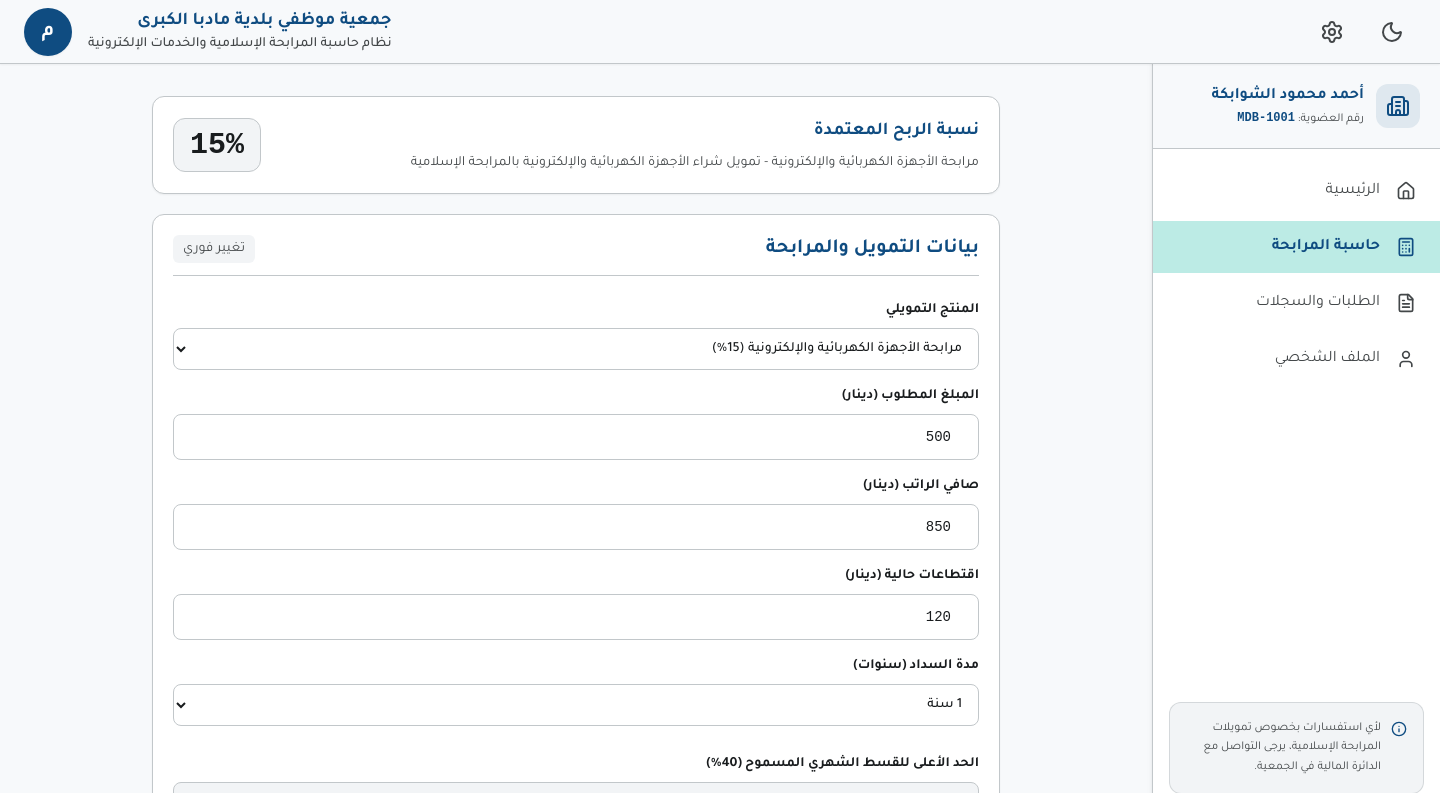
Test case: App with Convex queries and mutations › updates the profile from the profile tab
The width and height of the screenshot is (1440, 793).
Click the button "الملف الشخصي" at (1296, 359), box [1153, 333, 1439, 385]
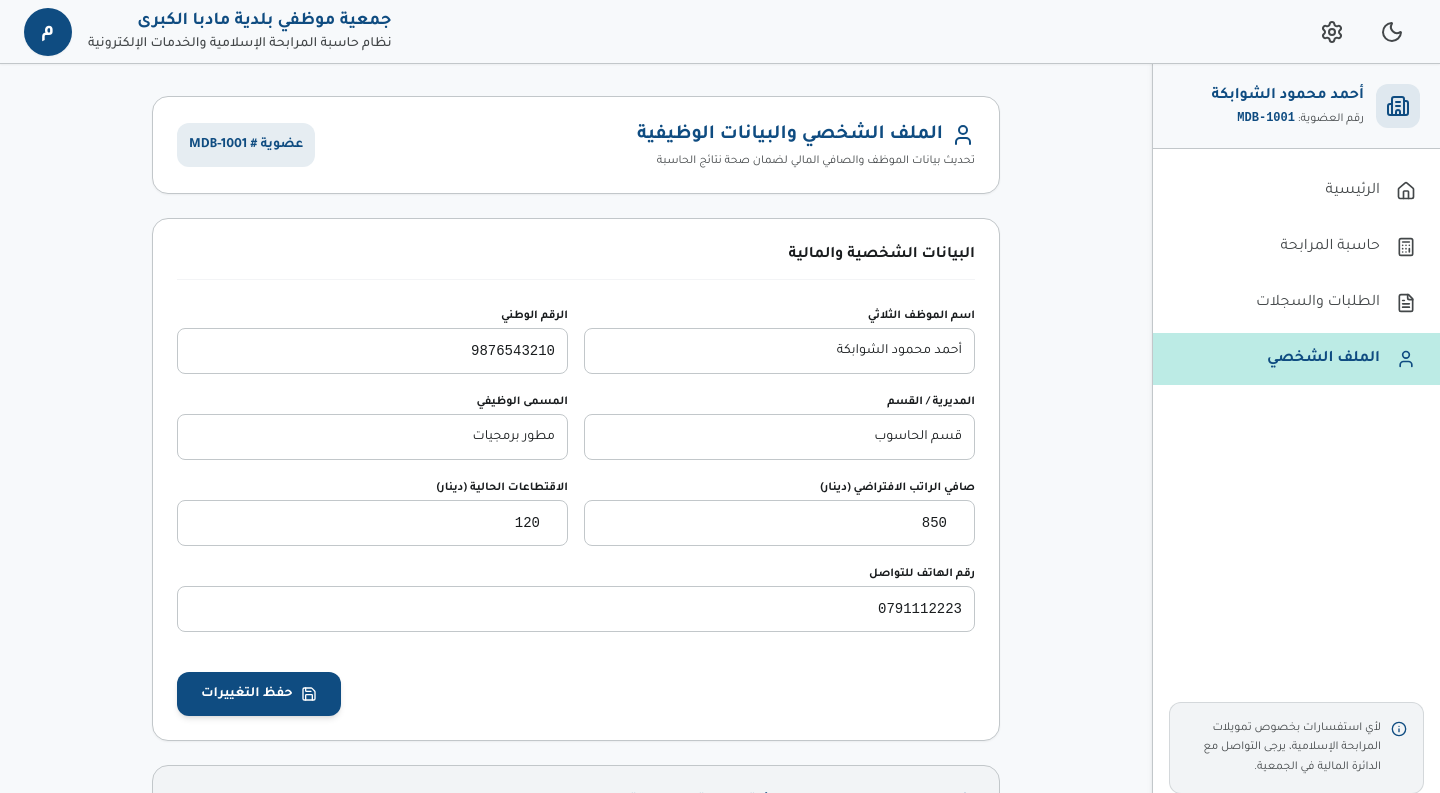
Now the text "الملف الشخصي والبيانات الوظيفية" is shown, box [637, 121, 943, 149]
Replace the text in the field labelled "اسم الموظف الثلاثي" with "عمر خالد العبدالله" at (780, 351), box [584, 328, 975, 374]
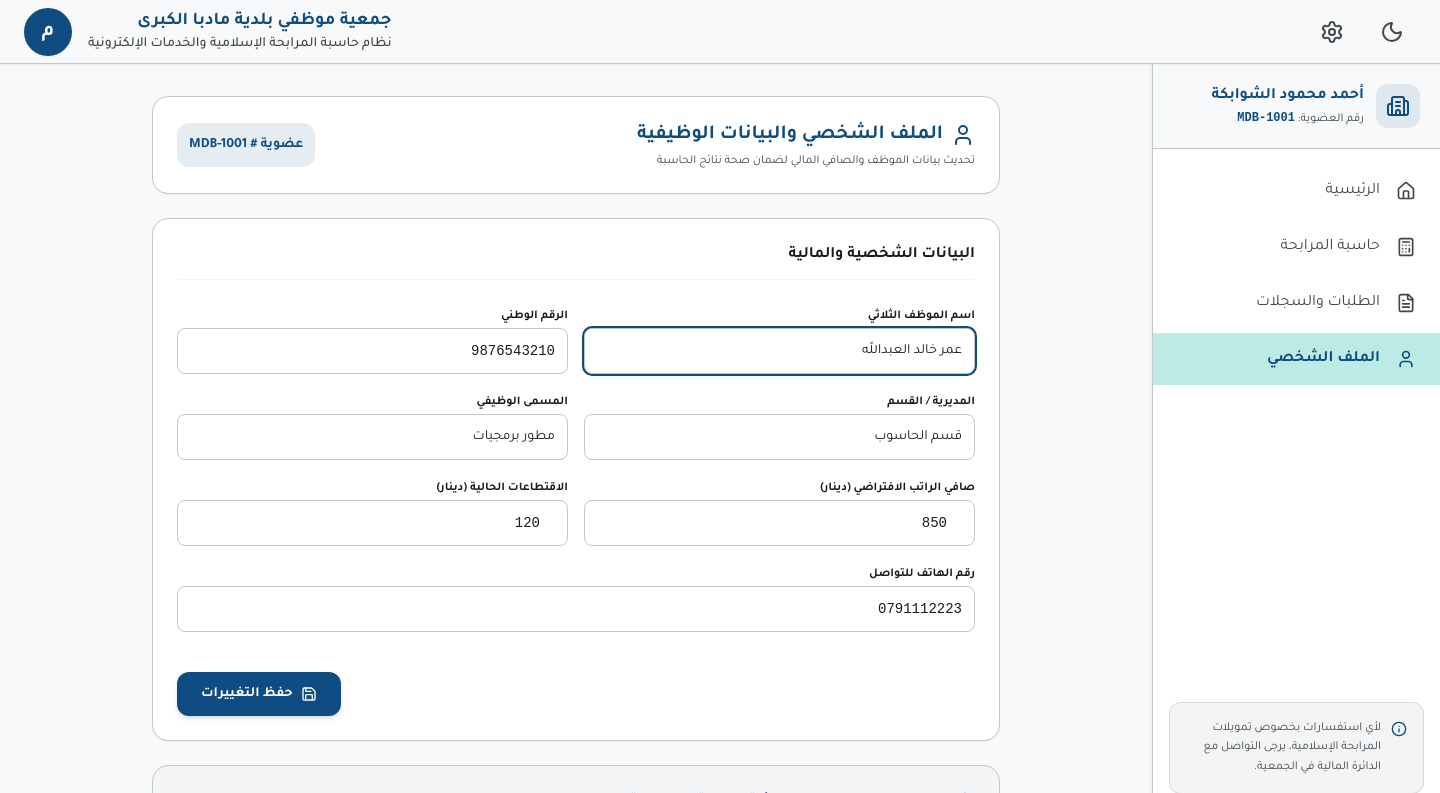
Click the button "حفظ التغييرات" at (259, 694), box [177, 672, 341, 716]
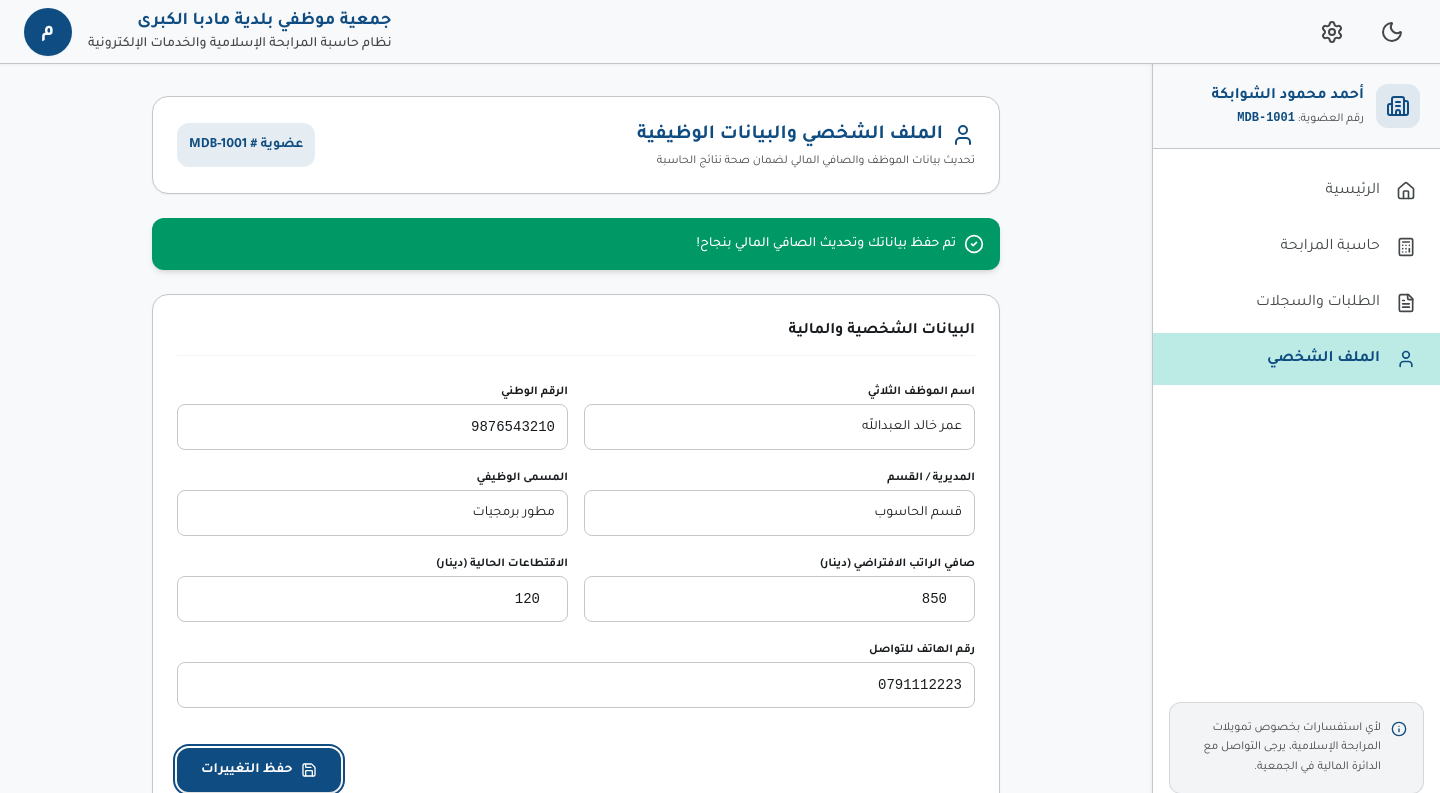
Now the message shows "تم حفظ بياناتك", box [696, 237, 956, 251]
